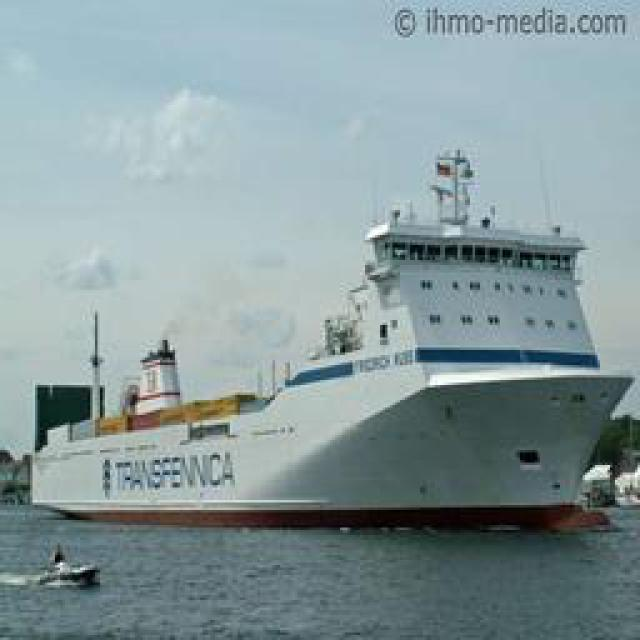Ship: (36, 113, 631, 531)
